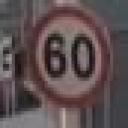speed_limit_60: (21, 3, 113, 108)
